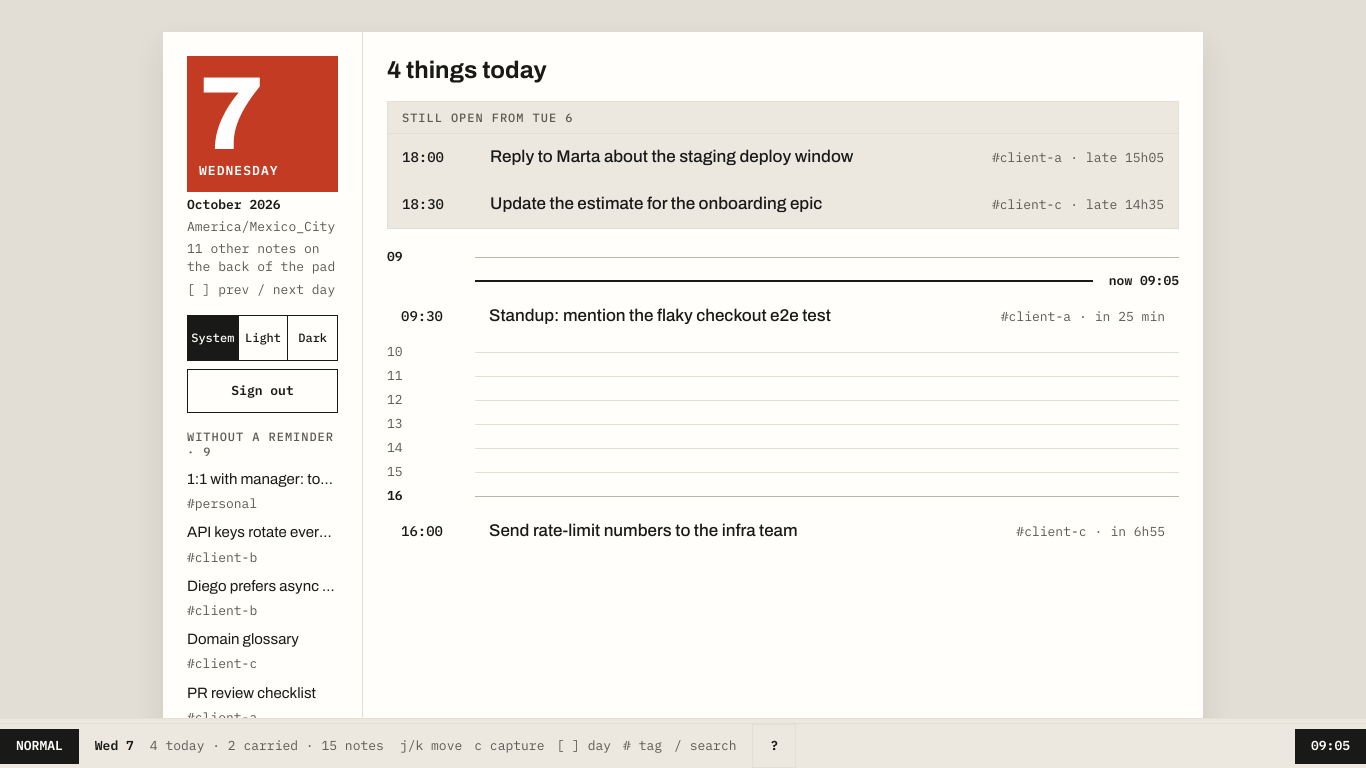
opening help › opens from the statusline button and esc gives focus back to it
Click the button named "How it works" at (774, 746), box [752,724,796,767]
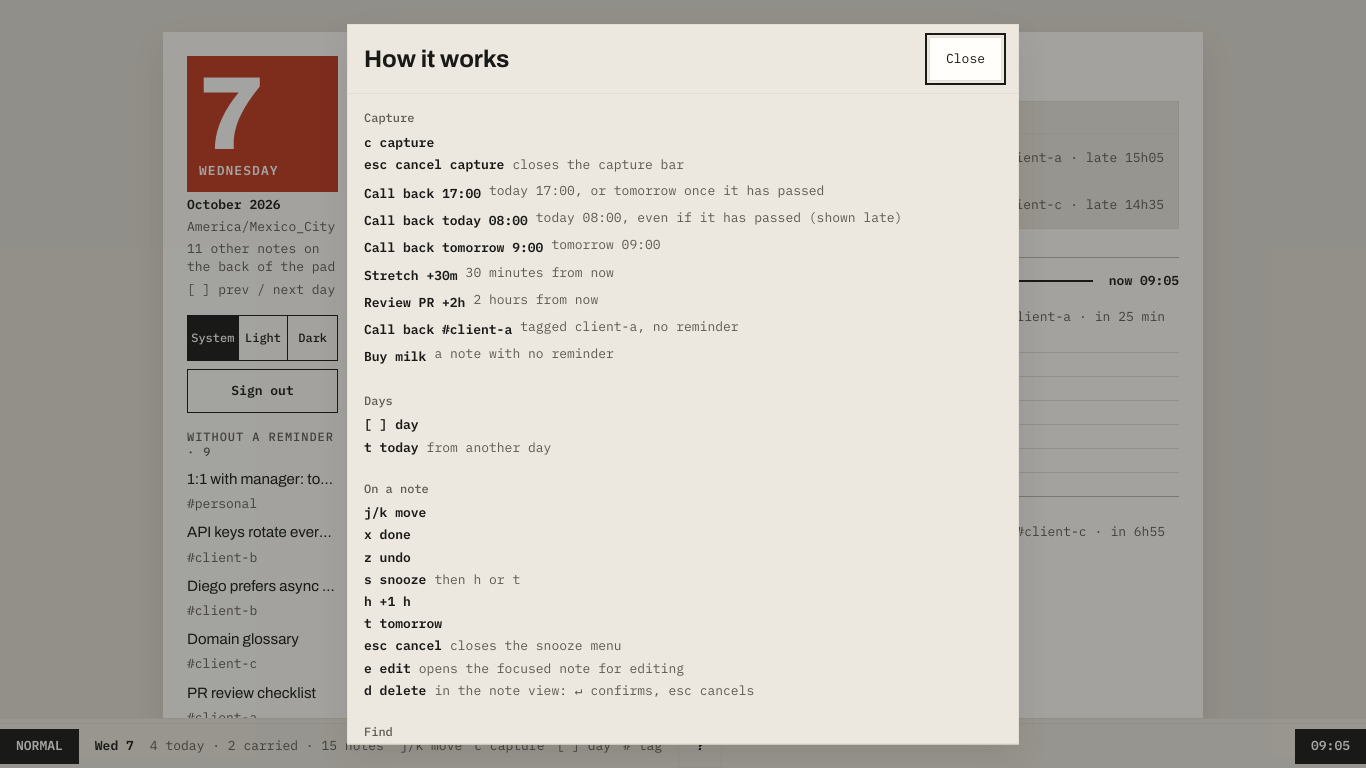
Press Escape
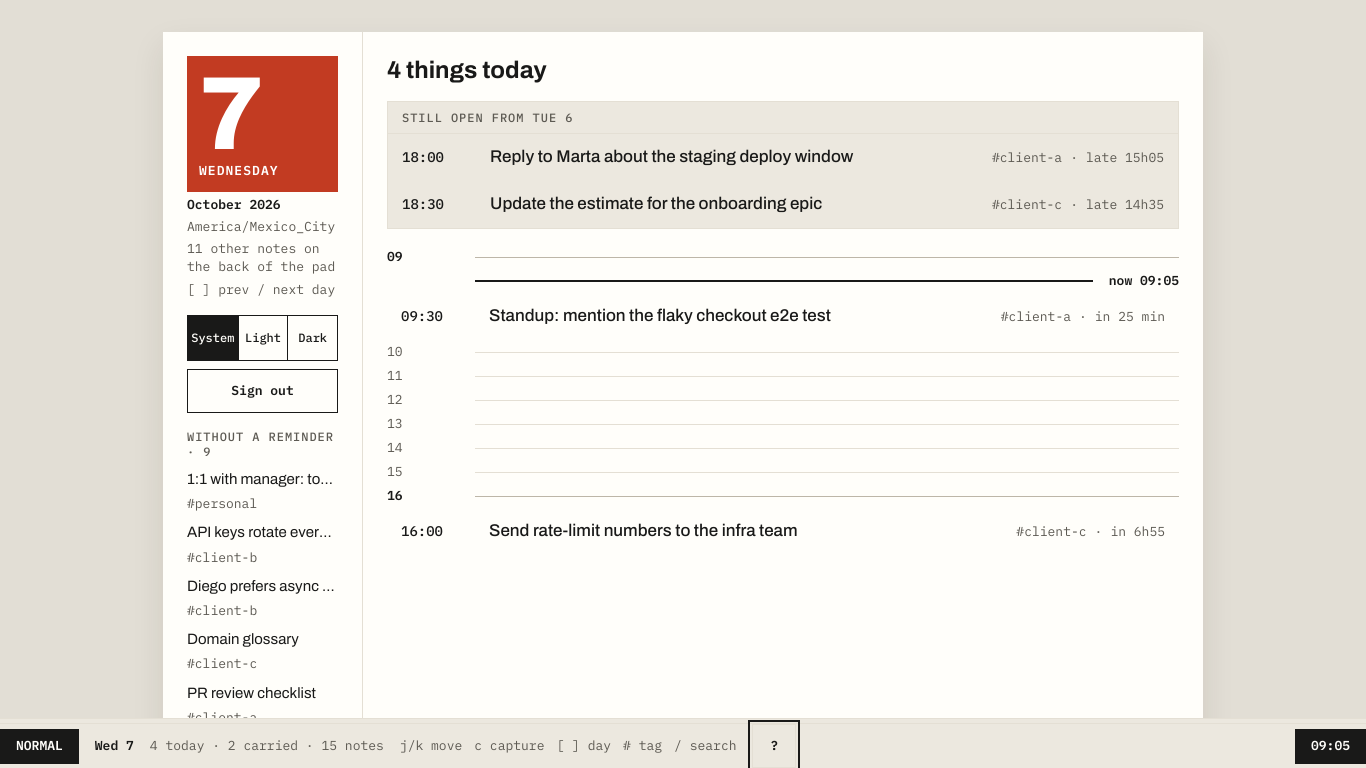
expect the dialog is gone: met
